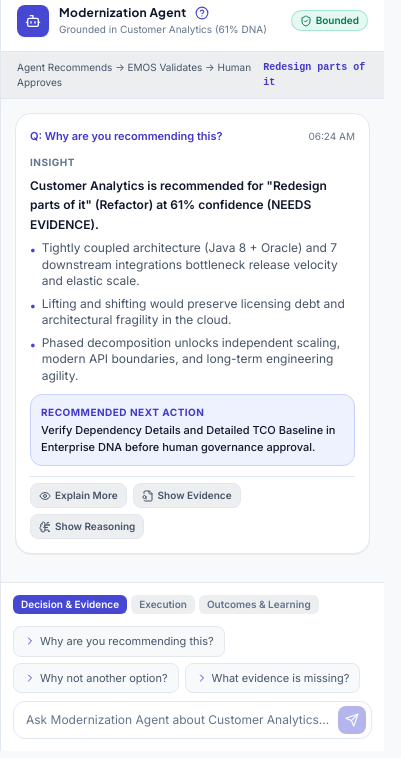
Test case: EMOS v2 Pre-Freeze Product-Integrity Regression Suite (Proofs A–J) › H. Ask EMOS API failure produces explicit deterministic fallback semantics (never pretends to be Gemini)
Type "What evidence is missing?" into the field labelled "Ask Modernization Agent" at (192, 720), box [13,701,372,739]
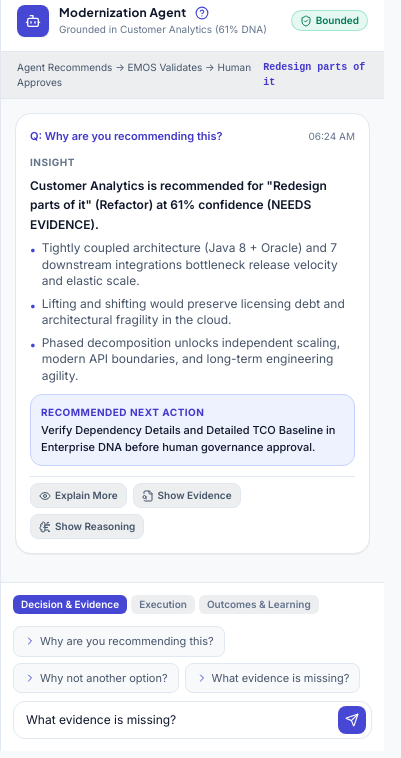
Click the button named "Send question to Modernization Agent" at (352, 720), box [338,706,366,734]
(page scrolled)
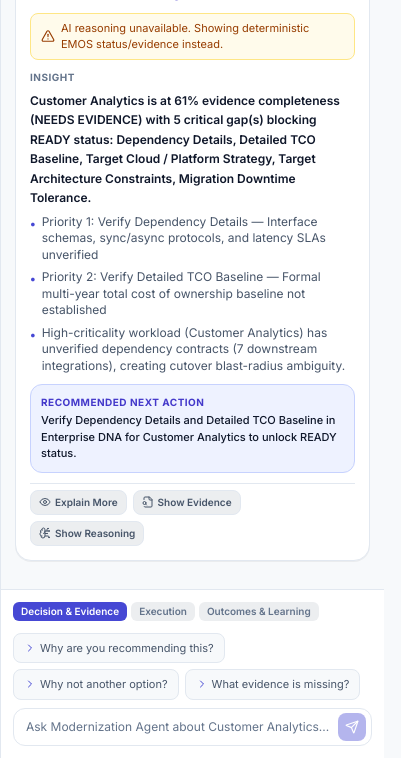
Check: the text "AI reasoning unavailable. Showing deterministic EMOS status/evidence instead." is shown, box [61,20,344,52]
